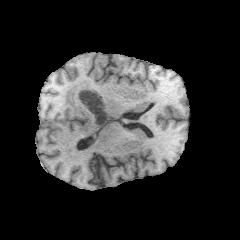glioma: (65, 79, 111, 137)
